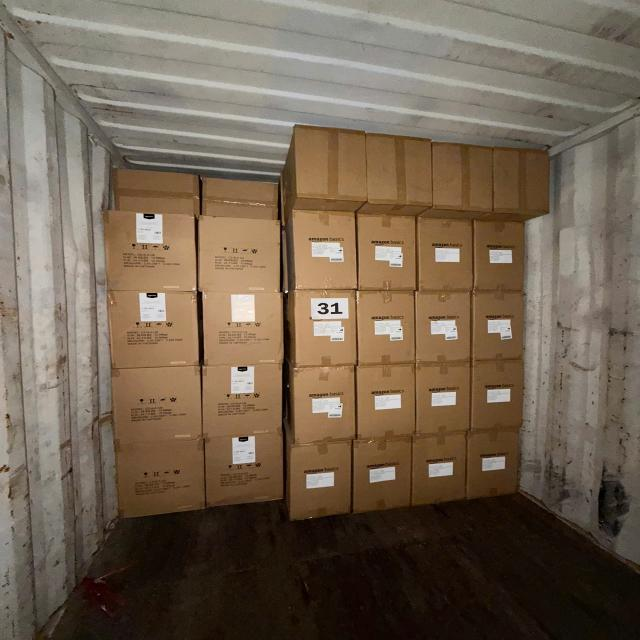Carton: (101, 212, 198, 294), (109, 290, 200, 367), (112, 366, 203, 443), (115, 443, 205, 519), (196, 218, 280, 296), (201, 291, 284, 365), (202, 364, 283, 438), (205, 436, 282, 509), (295, 129, 370, 203), (290, 292, 359, 370), (294, 209, 359, 290), (292, 366, 358, 444), (290, 443, 354, 523), (364, 137, 431, 210), (352, 437, 412, 513), (356, 291, 415, 368), (356, 213, 414, 291), (356, 362, 415, 437), (430, 143, 492, 213), (411, 433, 466, 509), (418, 216, 472, 292), (413, 293, 470, 365), (416, 361, 473, 433), (468, 427, 524, 499), (472, 358, 526, 430), (474, 220, 525, 294), (471, 294, 526, 362), (495, 151, 553, 215)
